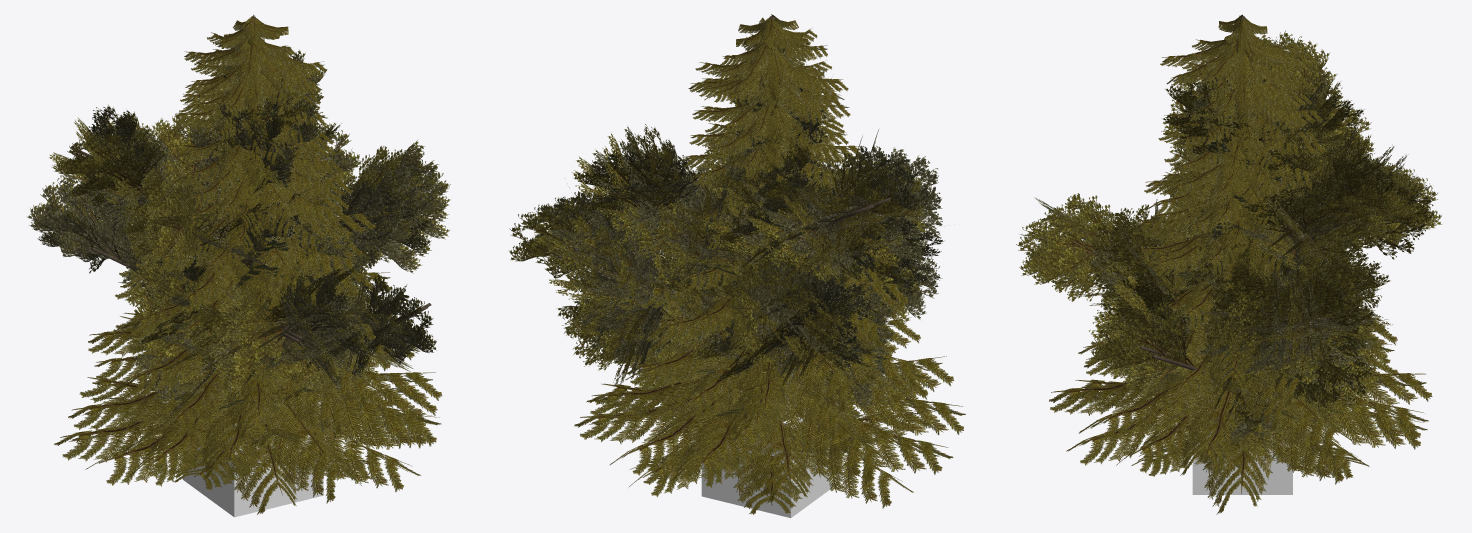
File: props2.glb
3 renders of one model, left to right at view 1: azimuth 30°, elevation 25°; view 2: azimuth 150°, elevation 25°; view 3: azimuth 270°, elevation 25°, orthographic. The views are drawn at different scales.
Parts seen in each view (by area): view 1: G_Pine-tree-bright_alt, G_Bushy-tree-dark-straight, G_Bushy-tree-bright-straight, G_Bushy-tree-bright, G_Pine-tree-dark_alt, G_Pine-tree-bright, G_box-1, G_Pine-tree-dark, G_box-2, G_Bushy-tree-dark; view 2: G_Pine-tree-bright_alt, G_Bushy-tree-bright, G_Bushy-tree-dark-straight, G_Pine-tree-dark_alt, G_Bushy-tree-bright-straight, G_Pine-tree-bright, G_box-1, G_Pine-tree-dark, G_Bushy-tree-dark, G_box-2, G_box-3; view 3: G_Pine-tree-bright_alt, G_Bushy-tree-bright, G_Bushy-tree-bright-straight, G_Pine-tree-dark_alt, G_Bushy-tree-dark-straight, G_Pine-tree-bright, G_Bushy-tree-dark, G_box-1, G_Pine-tree-dark, G_box-2.
Boxes of the visible parts, x1=… form: G_Pine-tree-bright_alt: x1=54, y1=15, x2=442, y2=514; G_Bushy-tree-dark-straight: x1=27, y1=52, x2=447, y2=414; G_Bushy-tree-bright-straight: x1=28, y1=55, x2=444, y2=408; G_Bushy-tree-bright: x1=30, y1=50, x2=450, y2=409; G_Pine-tree-dark_alt: x1=58, y1=19, x2=441, y2=514; G_Pine-tree-bright: x1=108, y1=47, x2=394, y2=489; G_box-1: x1=182, y1=375, x2=323, y2=517; G_Pine-tree-dark: x1=105, y1=45, x2=393, y2=489; G_box-2: x1=182, y1=443, x2=323, y2=516; G_Bushy-tree-dark: x1=41, y1=97, x2=446, y2=392; G_Pine-tree-bright_alt: x1=574, y1=14, x2=965, y2=508; G_Bushy-tree-bright: x1=509, y1=90, x2=927, y2=417; G_Bushy-tree-dark-straight: x1=527, y1=61, x2=943, y2=410; G_Pine-tree-dark_alt: x1=575, y1=15, x2=963, y2=507; G_Bushy-tree-bright-straight: x1=533, y1=78, x2=941, y2=409; G_Pine-tree-bright: x1=630, y1=47, x2=928, y2=514; G_box-1: x1=701, y1=375, x2=842, y2=517; G_Pine-tree-dark: x1=645, y1=48, x2=927, y2=513; G_Bushy-tree-dark: x1=511, y1=136, x2=923, y2=415; G_box-2: x1=701, y1=447, x2=842, y2=517; G_box-3: x1=724, y1=463, x2=768, y2=512; G_Pine-tree-bright_alt: x1=1049, y1=14, x2=1432, y2=513; G_Bushy-tree-bright: x1=1029, y1=39, x2=1441, y2=451; G_Bushy-tree-bright-straight: x1=1016, y1=31, x2=1427, y2=441; G_Pine-tree-dark_alt: x1=1050, y1=15, x2=1431, y2=513; G_Bushy-tree-dark-straight: x1=1016, y1=33, x2=1418, y2=442; G_Pine-tree-bright: x1=1114, y1=61, x2=1378, y2=478; G_Bushy-tree-dark: x1=1029, y1=41, x2=1437, y2=450; G_box-1: x1=1192, y1=362, x2=1292, y2=494; G_Pine-tree-dark: x1=1132, y1=67, x2=1377, y2=478; G_box-2: x1=1192, y1=450, x2=1292, y2=494.
Bounding box in the file's own units: 2.36 × 2.58 × 2.26.
13 materials, 6 textured.
